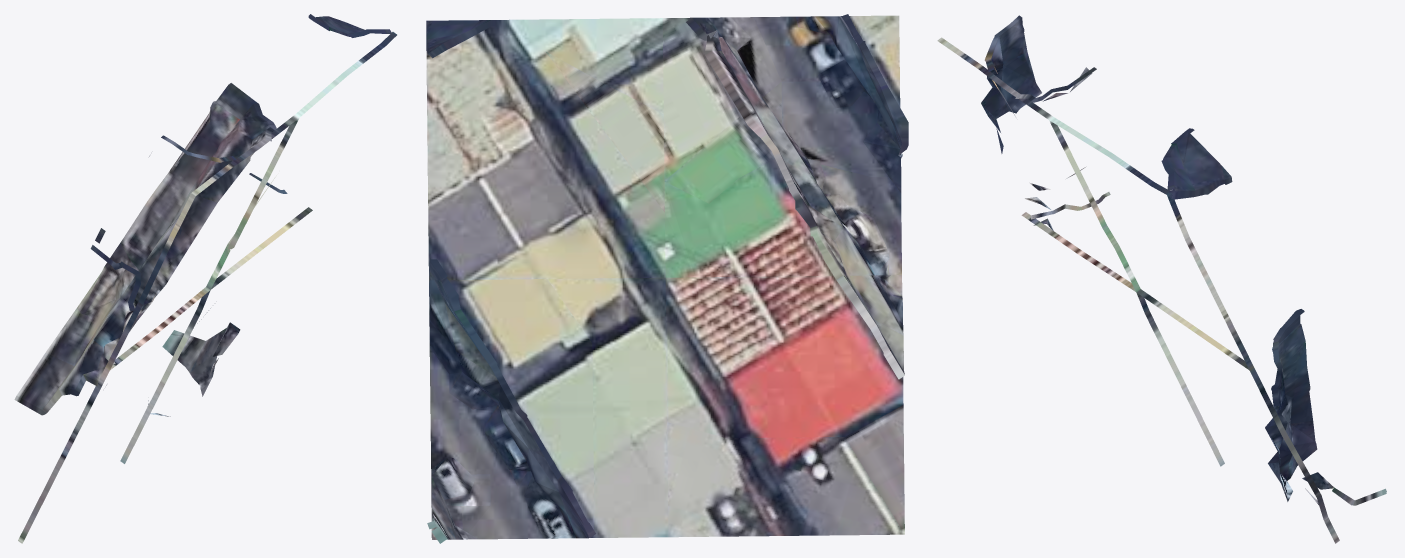
The picture shows the model from 3 angles, left to right: view 1: azimuth 30°, elevation 25°; view 2: azimuth 150°, elevation 25°; view 3: azimuth 270°, elevation 25°; orthographic projection. The views are drawn at different scales.
Bounding box in the file's own units: 38.13 × 37.22 × 36.24.
1 material, 1 textured.
